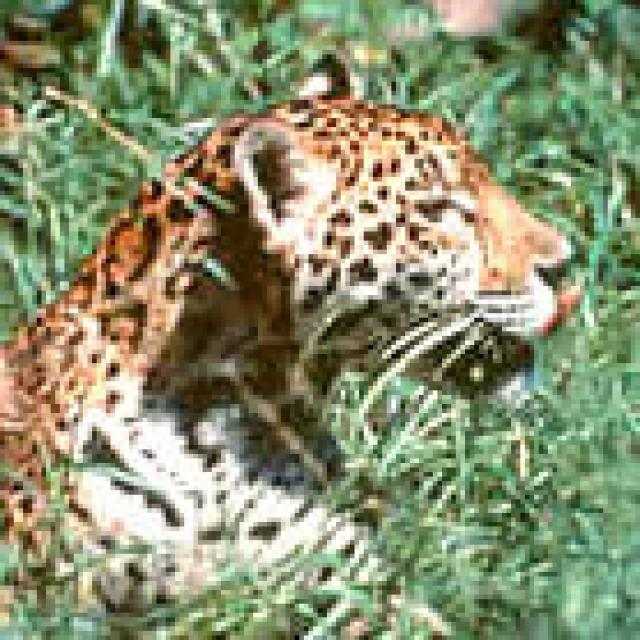Leopard: (0, 95, 580, 631)
